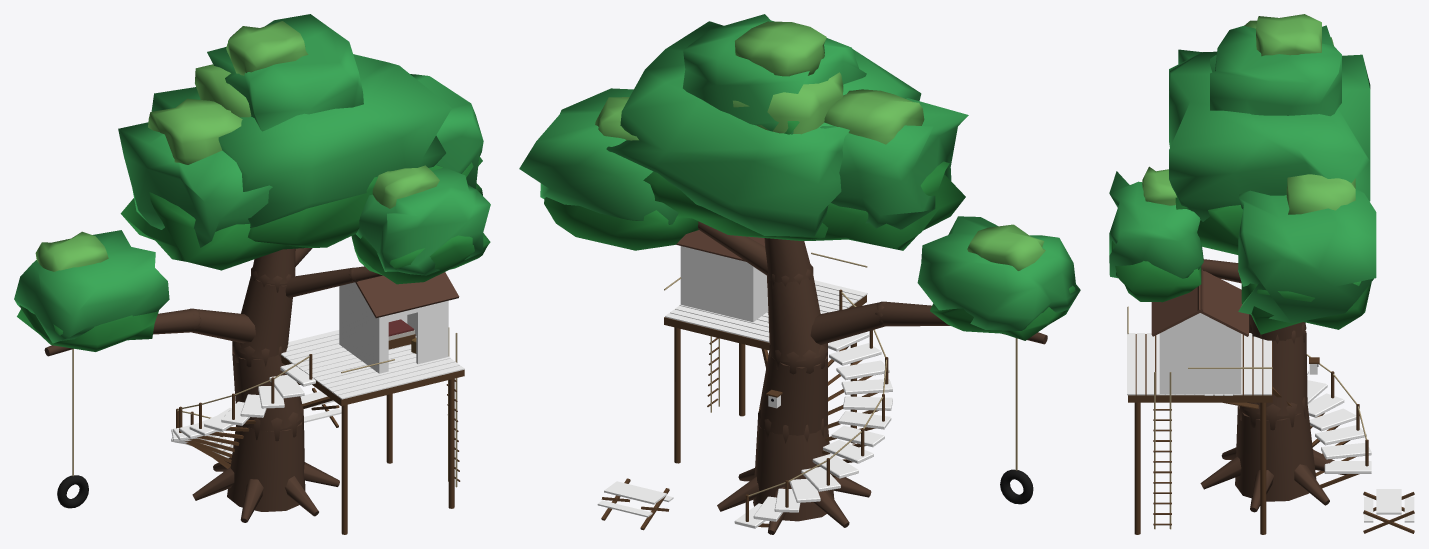
The model's file is tf-tree-p3.glb.
3 renders of one model, left to right at view 1: azimuth 30°, elevation 25°; view 2: azimuth 150°, elevation 25°; view 3: azimuth 270°, elevation 25°, orthographic. The views are drawn at different scales.
Visible parts, largest first — view 1: tf-tree-p3; view 2: tf-tree-p3; view 3: tf-tree-p3.
Part boxes in pixels (x1=…): tf-tree-p3: x1=14, y1=14, x2=490, y2=534; tf-tree-p3: x1=519, y1=14, x2=1080, y2=534; tf-tree-p3: x1=1109, y1=14, x2=1414, y2=534.
Size of the model in its own units: 17 by 16.54 by 9.72.
